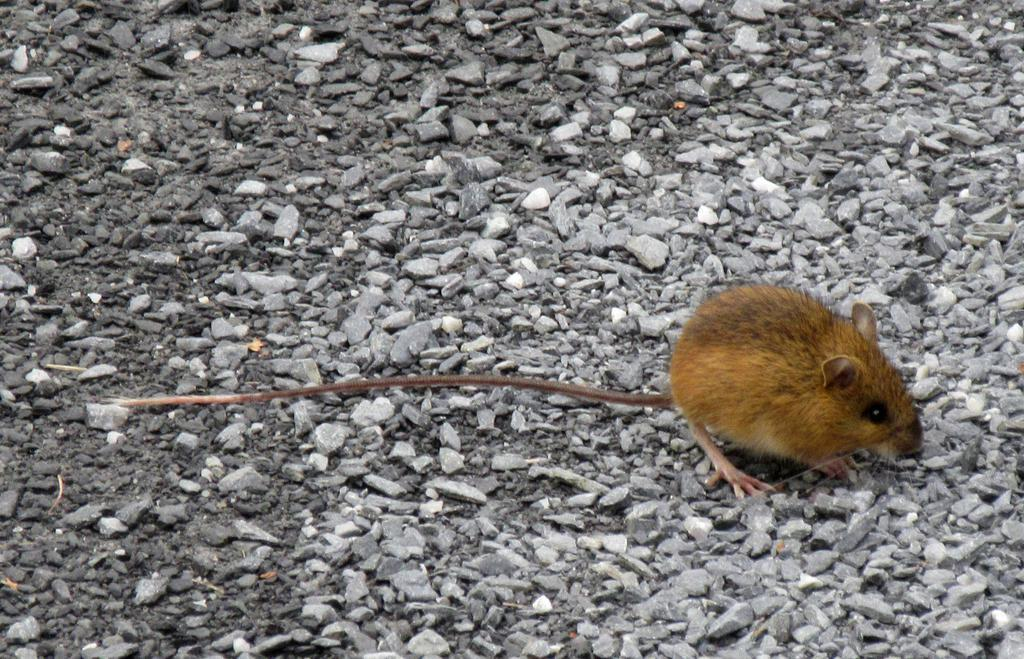rat: (122, 284, 922, 497)
